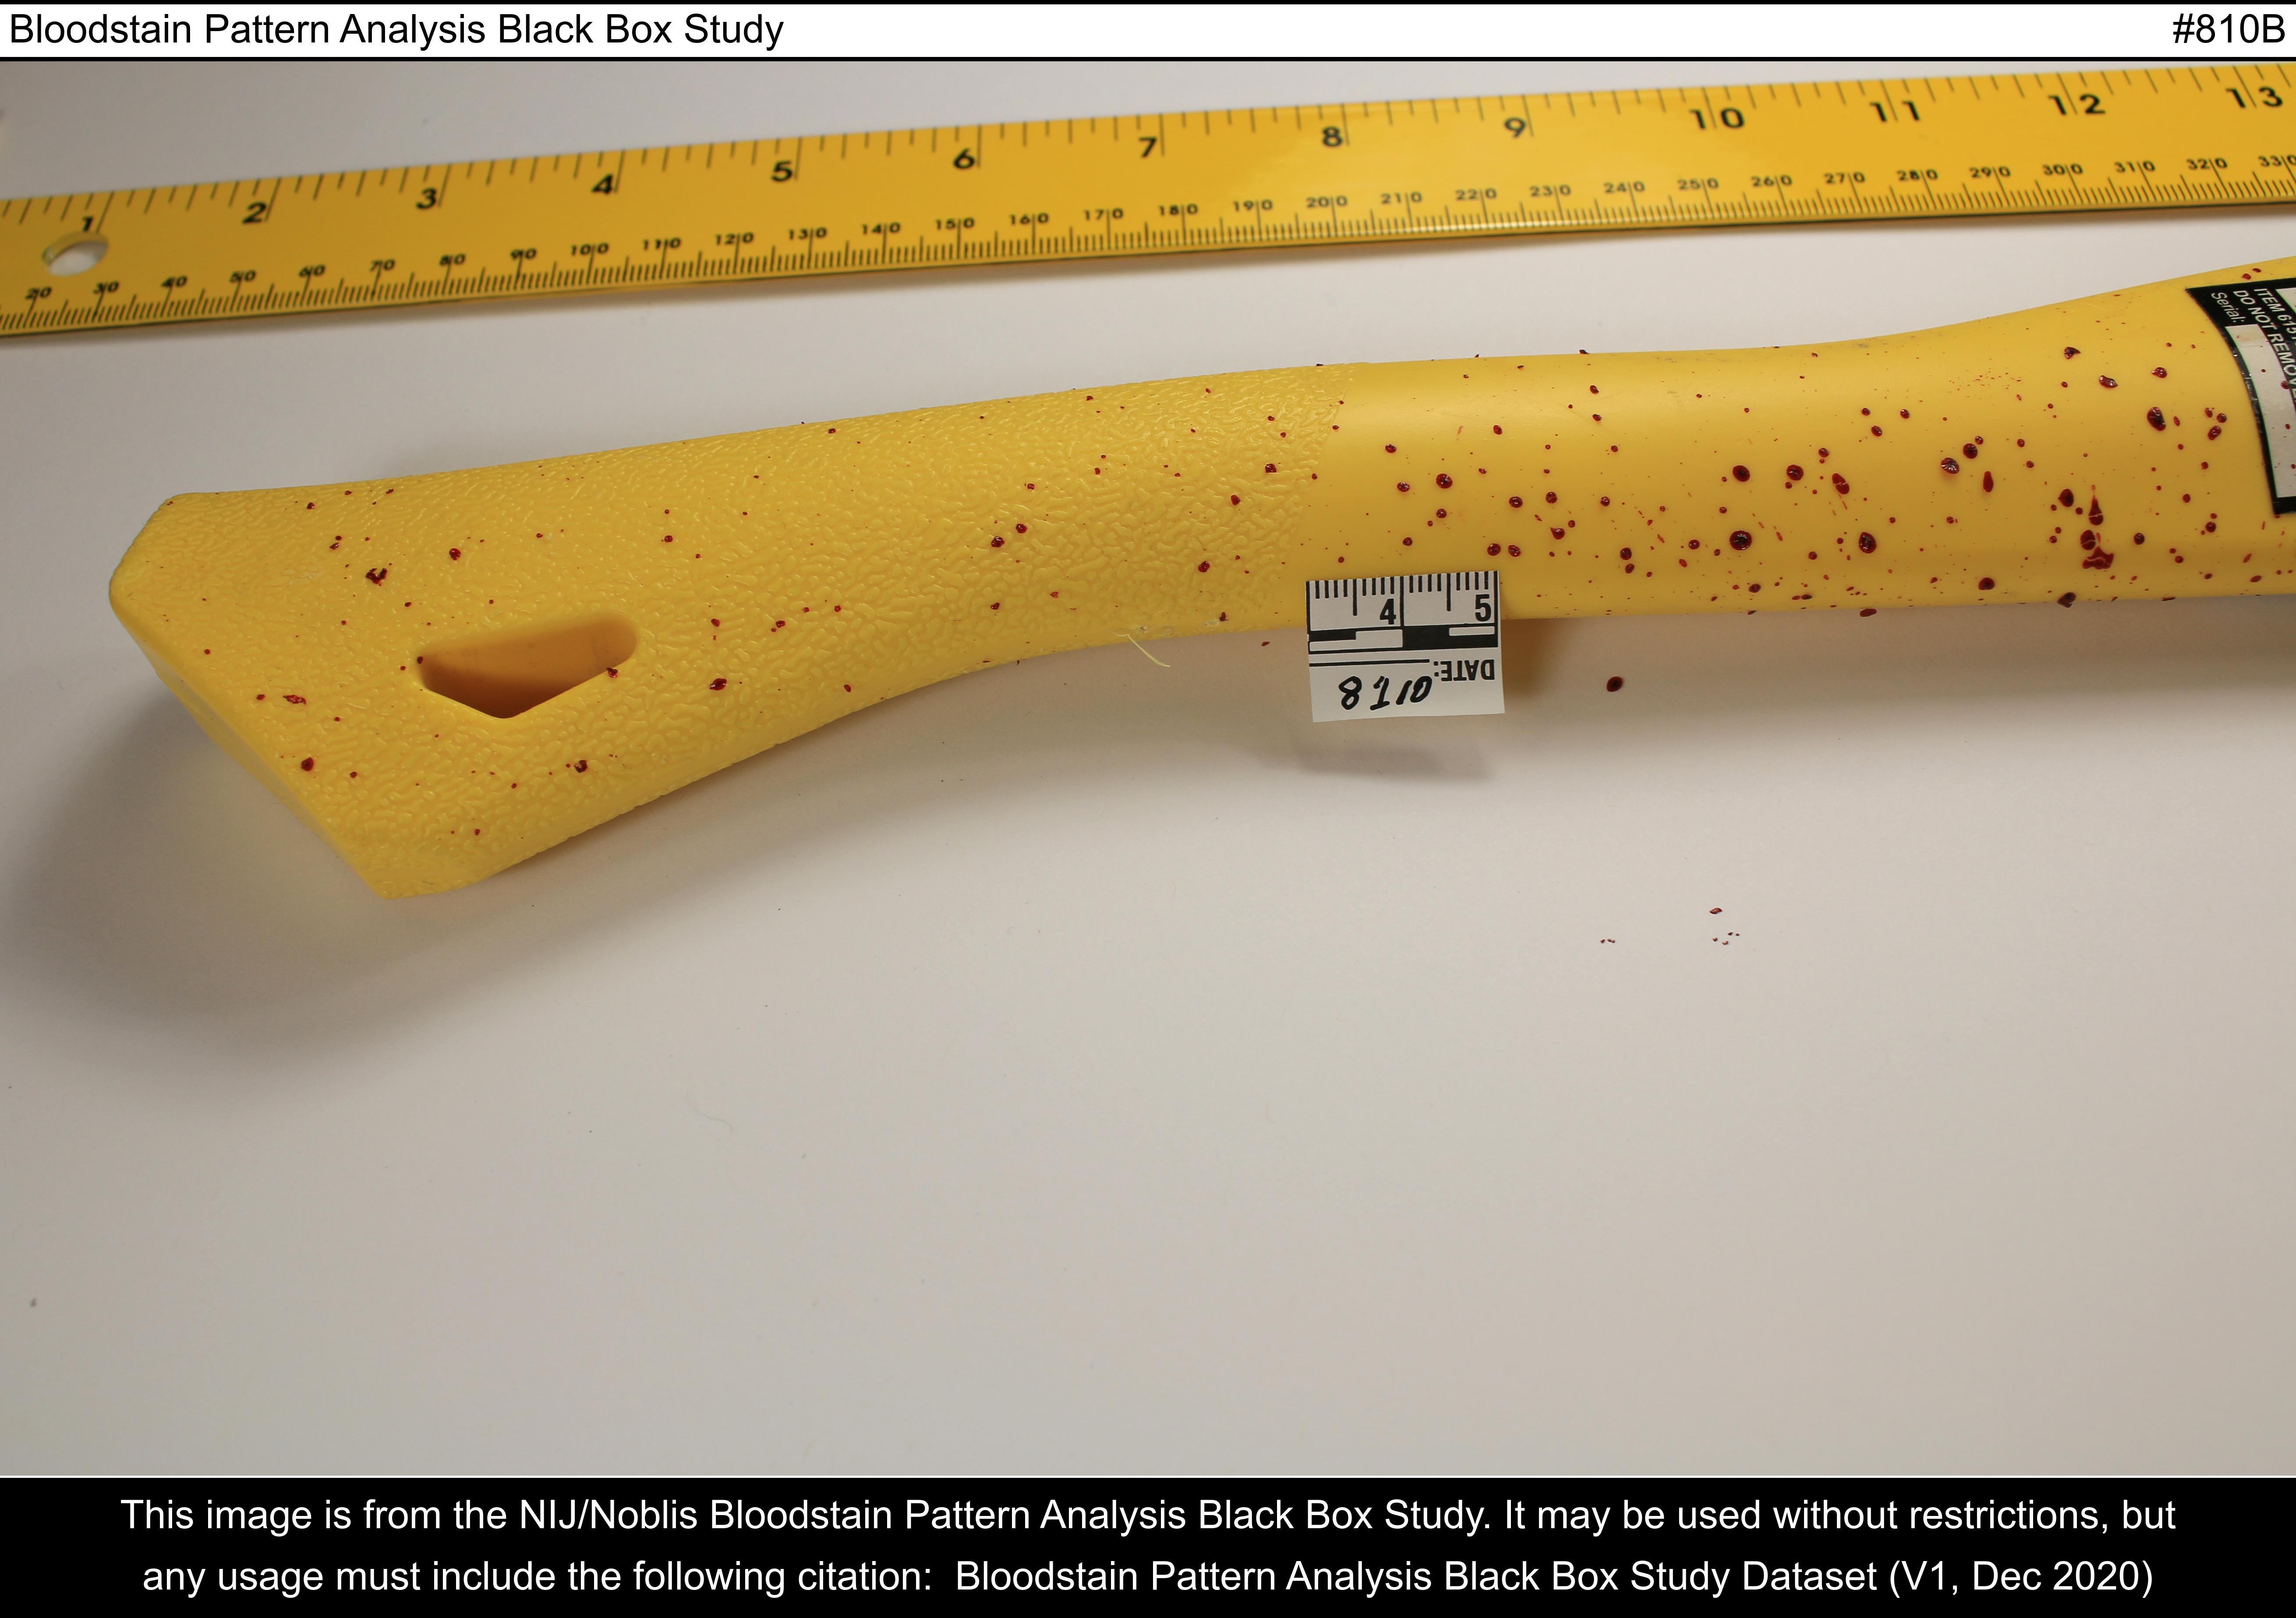Impact: (166, 333, 2264, 895), (403, 469, 412, 496)
